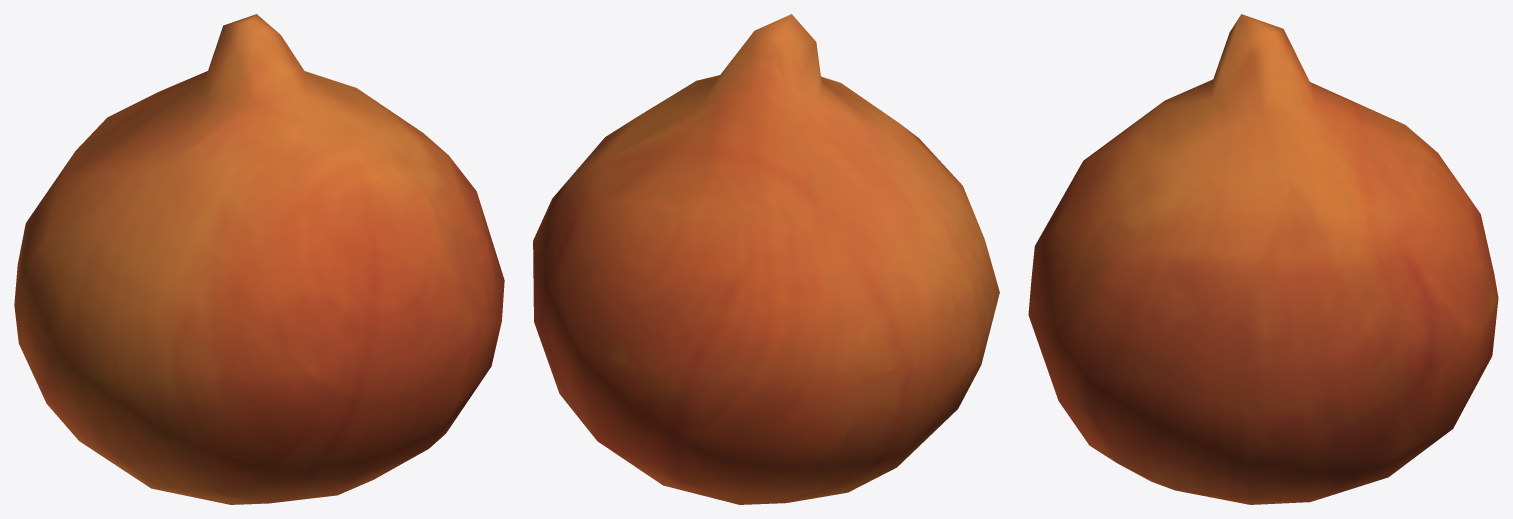
Rendered from SM_Food_SM_Onion.fbx.
The picture shows the model from 3 angles, left to right: view 1: azimuth 30°, elevation 25°; view 2: azimuth 150°, elevation 25°; view 3: azimuth 270°, elevation 25°; orthographic projection. The views are drawn at different scales.
Visible parts, largest first — view 1: SM_Food_SM_Onion_LOD0; view 2: SM_Food_SM_Onion_LOD0; view 3: SM_Food_SM_Onion_LOD0.
Boxes of the visible parts, bbox=[...] form: SM_Food_SM_Onion_LOD0: bbox=[14, 14, 504, 504]; SM_Food_SM_Onion_LOD0: bbox=[533, 14, 999, 504]; SM_Food_SM_Onion_LOD0: bbox=[1028, 14, 1498, 504].
Bounding box in the file's own units: 7.53 × 7.44 × 8.25.
Materials: 1 (1 with a texture image).
